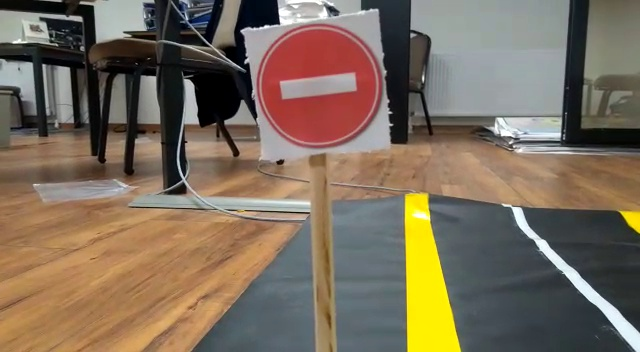girisi_olmayan_yol: (247, 22, 387, 150)
